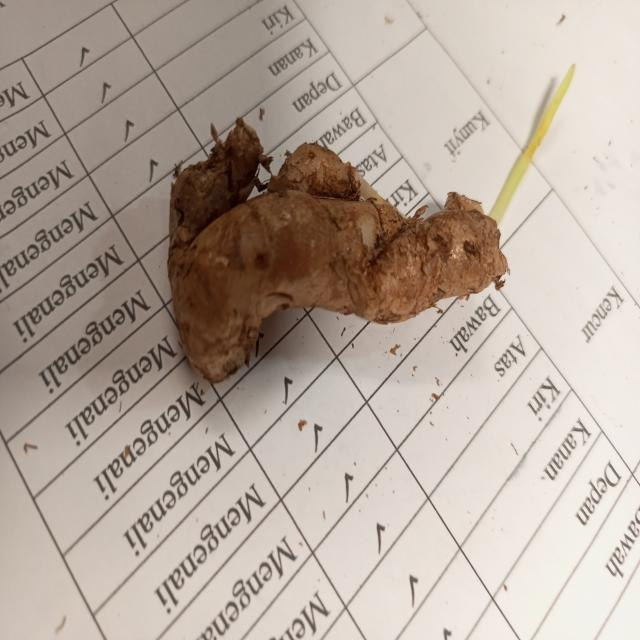ginger: (164, 122, 503, 380)
